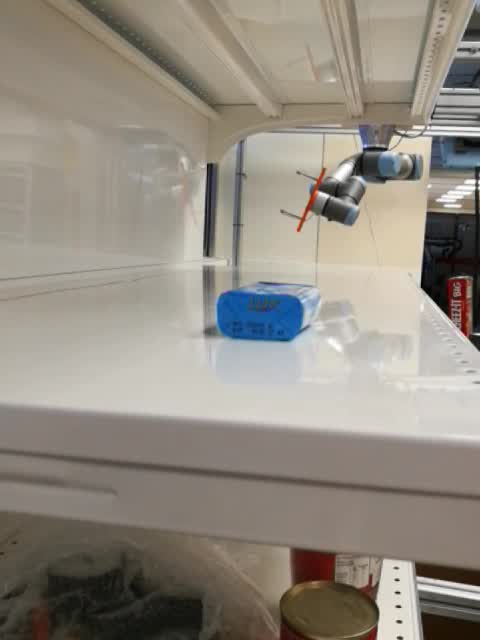soap: (214, 279, 324, 344)
